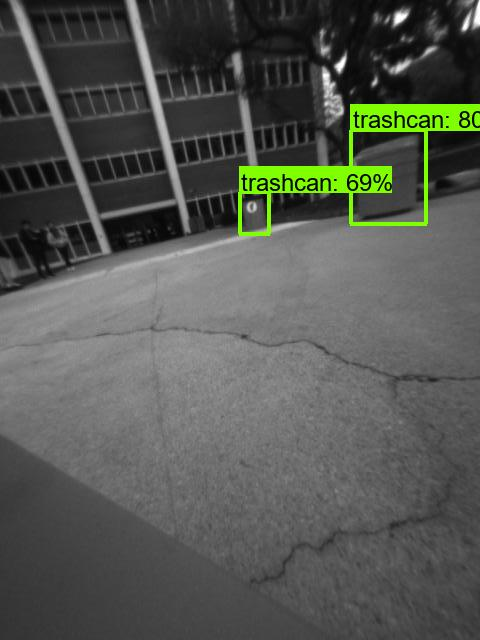trashcan: (353, 129, 420, 223), (239, 194, 274, 231)
